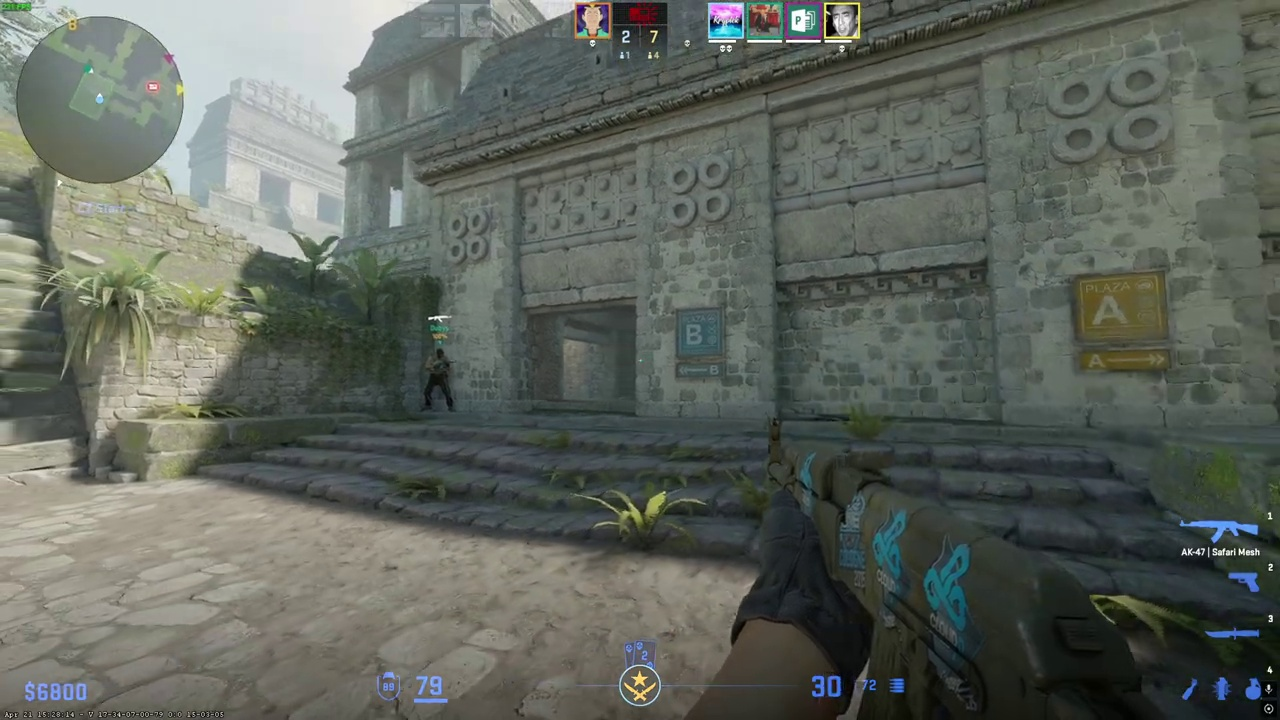Terrorist: (423, 348, 455, 412)
